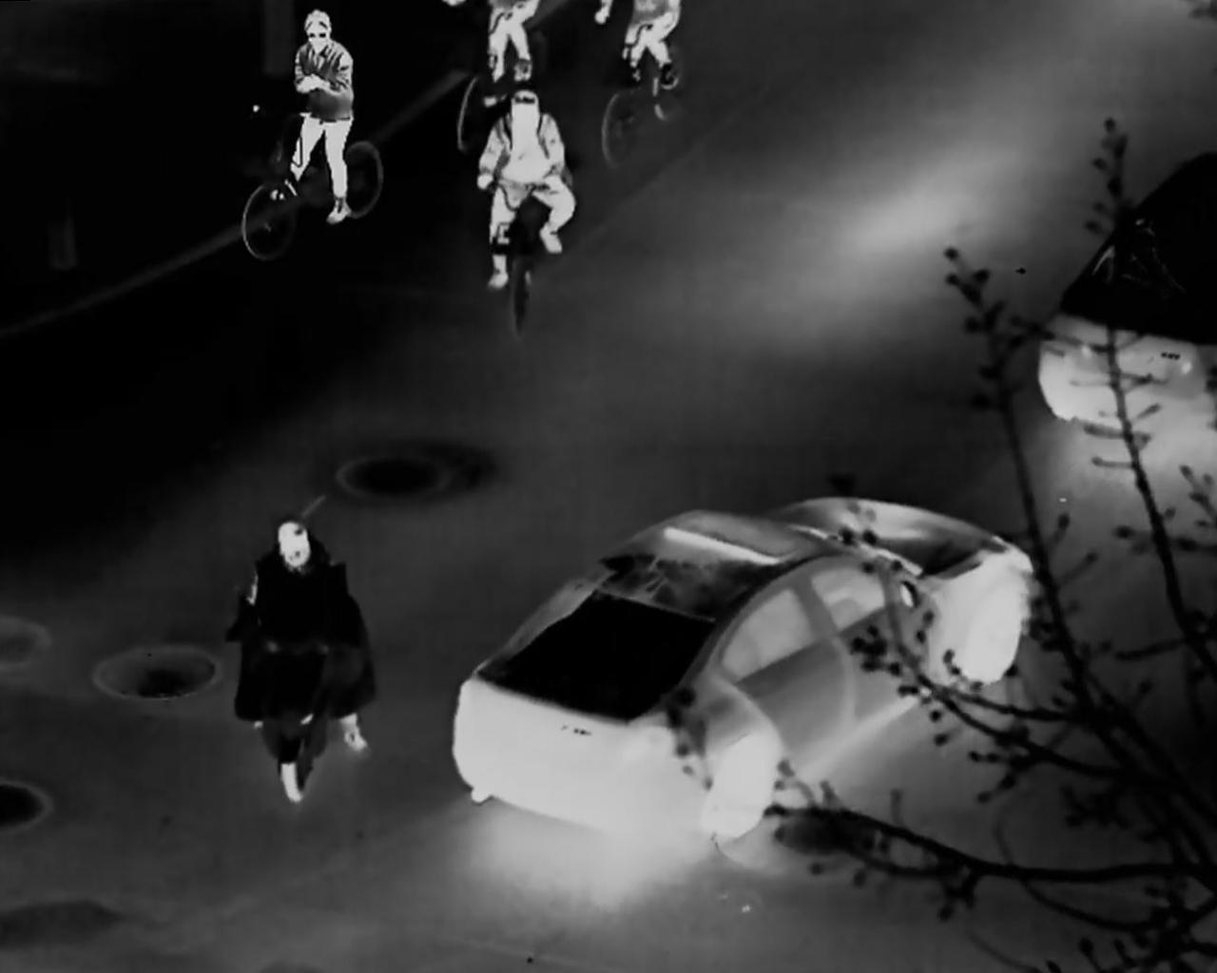person: (466, 93, 582, 285), (261, 509, 353, 722), (281, 13, 365, 223)
